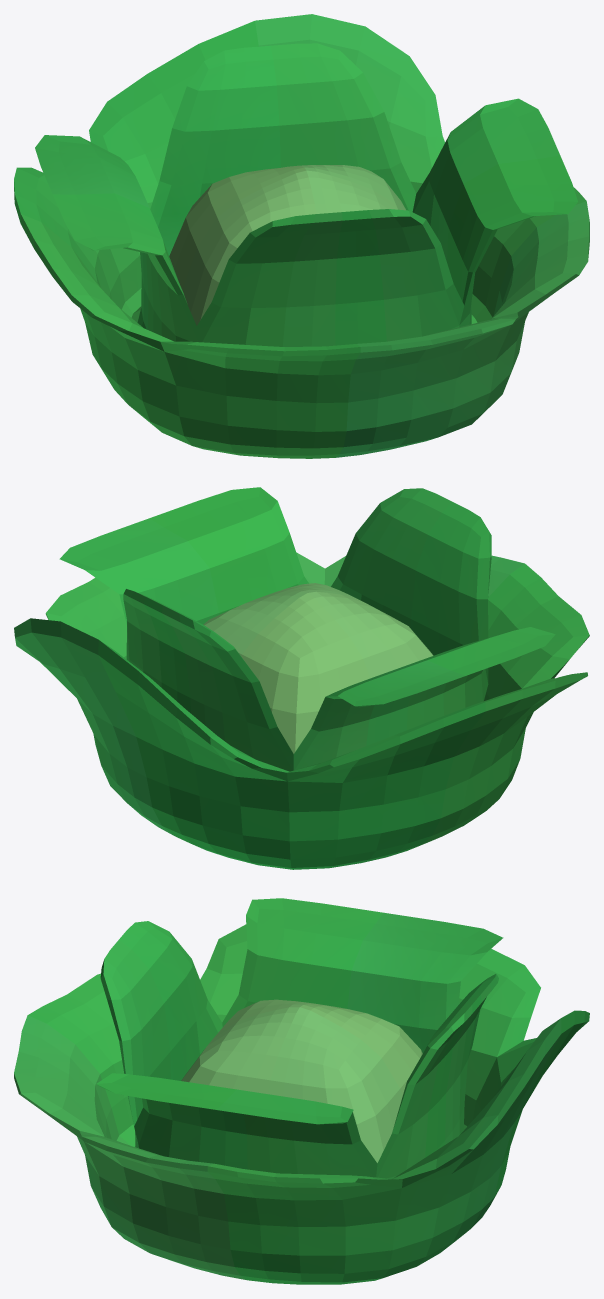
Rendered from SM_Crop_Lettuce_Stage_Grown.fbx.
3 renders of one model, top to bottom at view 1: azimuth 30°, elevation 25°; view 2: azimuth 150°, elevation 25°; view 3: azimuth 270°, elevation 25°, orthographic. The views are drawn at different scales.
Visible parts, largest first — view 1: SM_Crop_Lettuce_ST3; view 2: SM_Crop_Lettuce_ST3; view 3: SM_Crop_Lettuce_ST3.
Boxes of the visible parts, x1=… form: SM_Crop_Lettuce_ST3: x1=14, y1=14, x2=589, y2=458; SM_Crop_Lettuce_ST3: x1=14, y1=487, x2=589, y2=869; SM_Crop_Lettuce_ST3: x1=14, y1=898, x2=589, y2=1284.
Size of the model in its own units: 84.01 by 43.28 by 85.05.
1 material, 1 textured.
